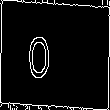O_N: (44, 29, 66, 81)
